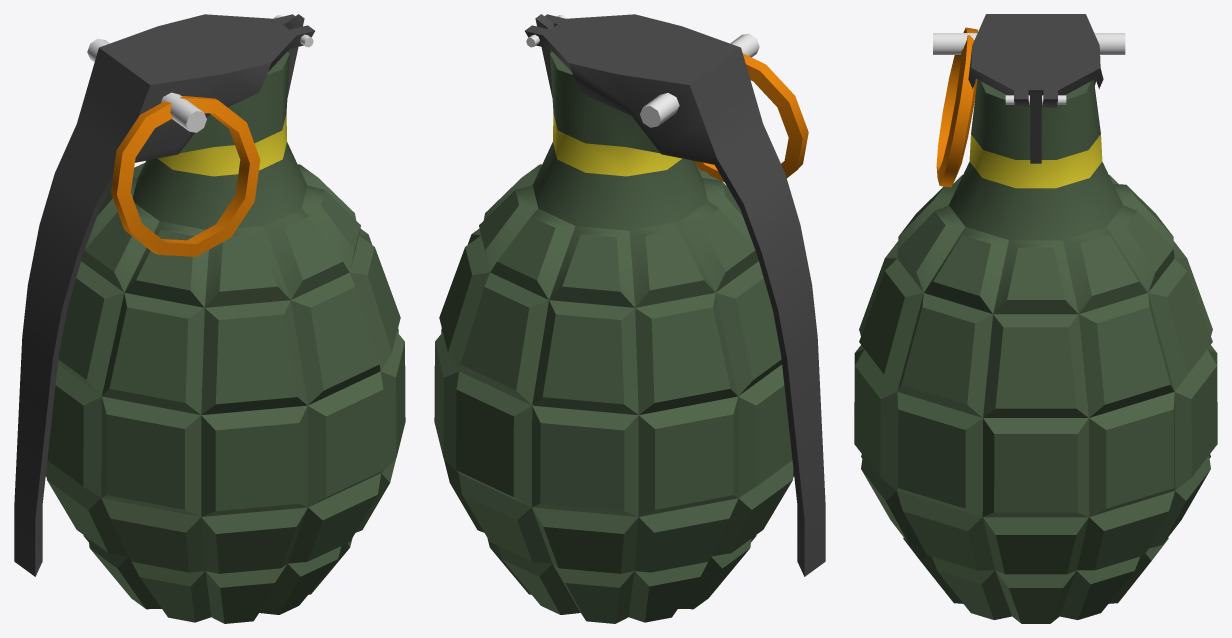
Rendered from grenade2-food.fbx.
3 views of the same model, side by side, from view 1: azimuth 30°, elevation 25°; view 2: azimuth 150°, elevation 25°; view 3: azimuth 270°, elevation 25° (orthographic). The views are drawn at different scales.
Parts seen in each view (by area): view 1: grenade2-food; view 2: grenade2-food; view 3: grenade2-food.
Part boxes in pixels (box(x1,y1,x2,y2)): grenade2-food: box(14, 14, 405, 623); grenade2-food: box(434, 14, 825, 623); grenade2-food: box(854, 14, 1217, 623).
Bounding box in the file's own units: 0.1085 × 0.161 × 0.0995.
